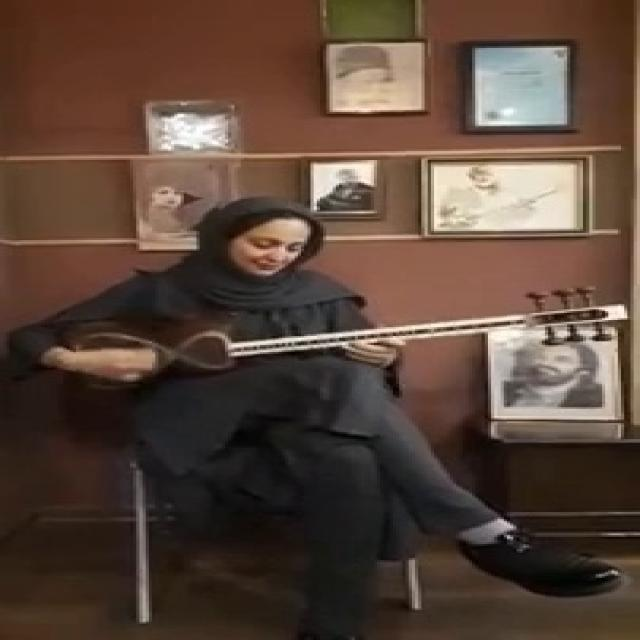Setar: (41, 277, 623, 403)
